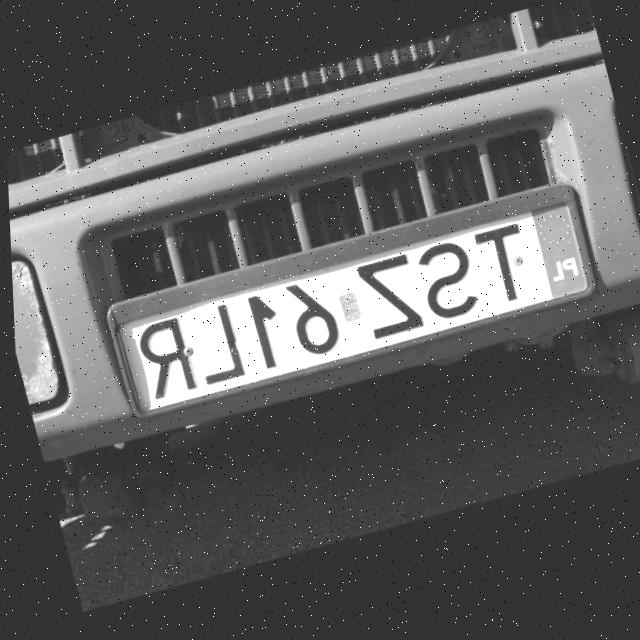license-plates: (118, 203, 589, 412)
